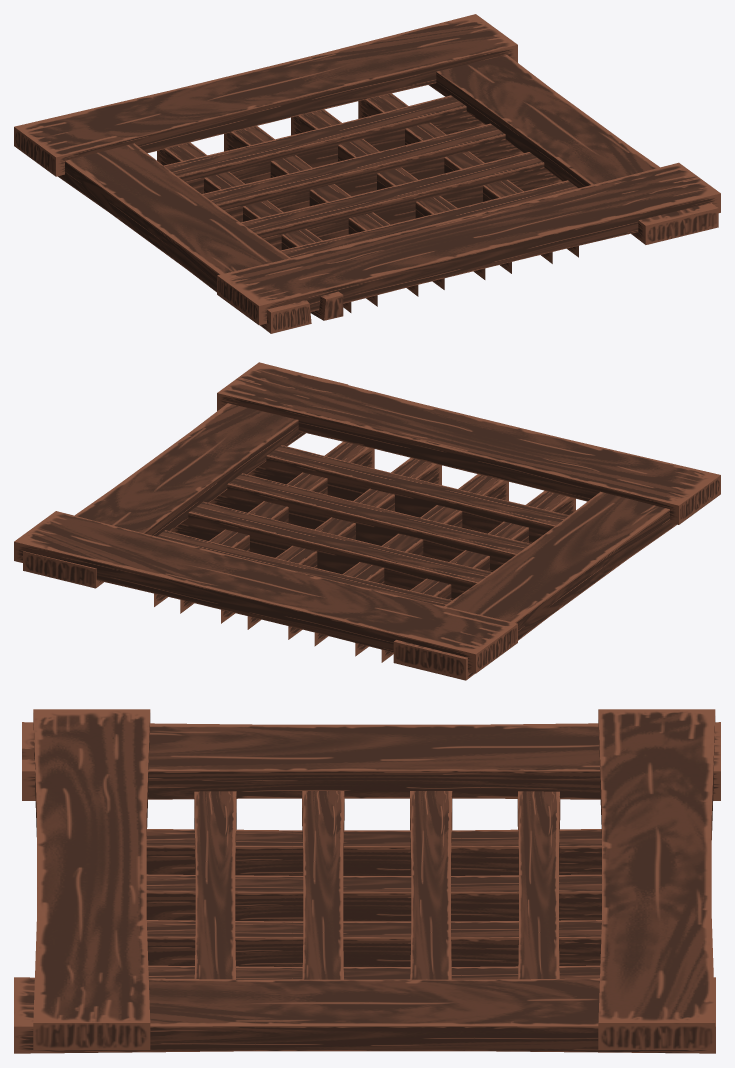
The model's file is Wood_floor_hole_2.fbx.
3 views of the same model, one above another, from view 1: azimuth 30°, elevation 25°; view 2: azimuth 150°, elevation 25°; view 3: azimuth 270°, elevation 25° (orthographic). The views are drawn at different scales.
Parts seen in each view (by area): view 1: Wood_floor_hole_2; view 2: Wood_floor_hole_2; view 3: Wood_floor_hole_2.
Boxes of the visible parts, bbox=[...] form: Wood_floor_hole_2: bbox=[14, 14, 720, 333]; Wood_floor_hole_2: bbox=[14, 362, 720, 680]; Wood_floor_hole_2: bbox=[14, 709, 720, 1053].
Size of the model in its own units: 1.49 by 0.1715 by 1.42.
